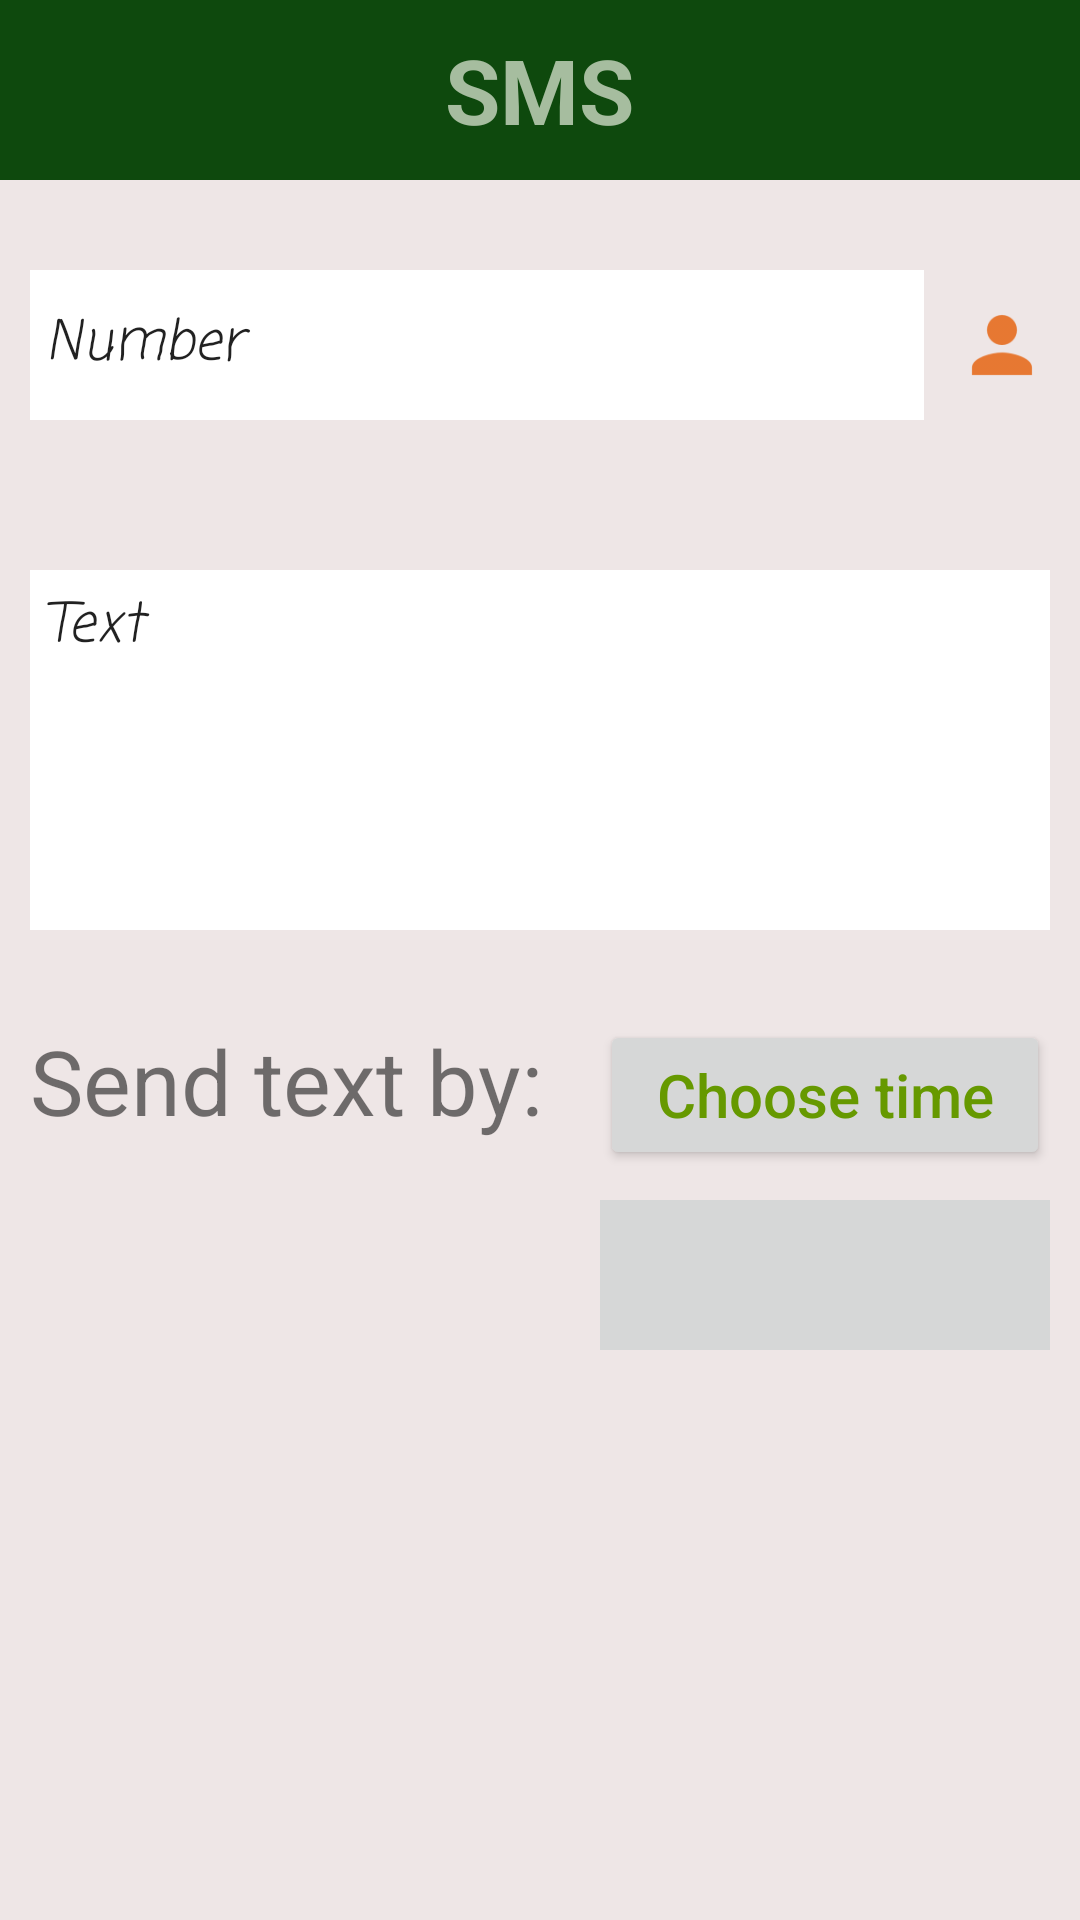

Screen size 1080x1920. Icon name, then its center in pixels as (x=x, y=y):
contact: (x=1002, y=345)
